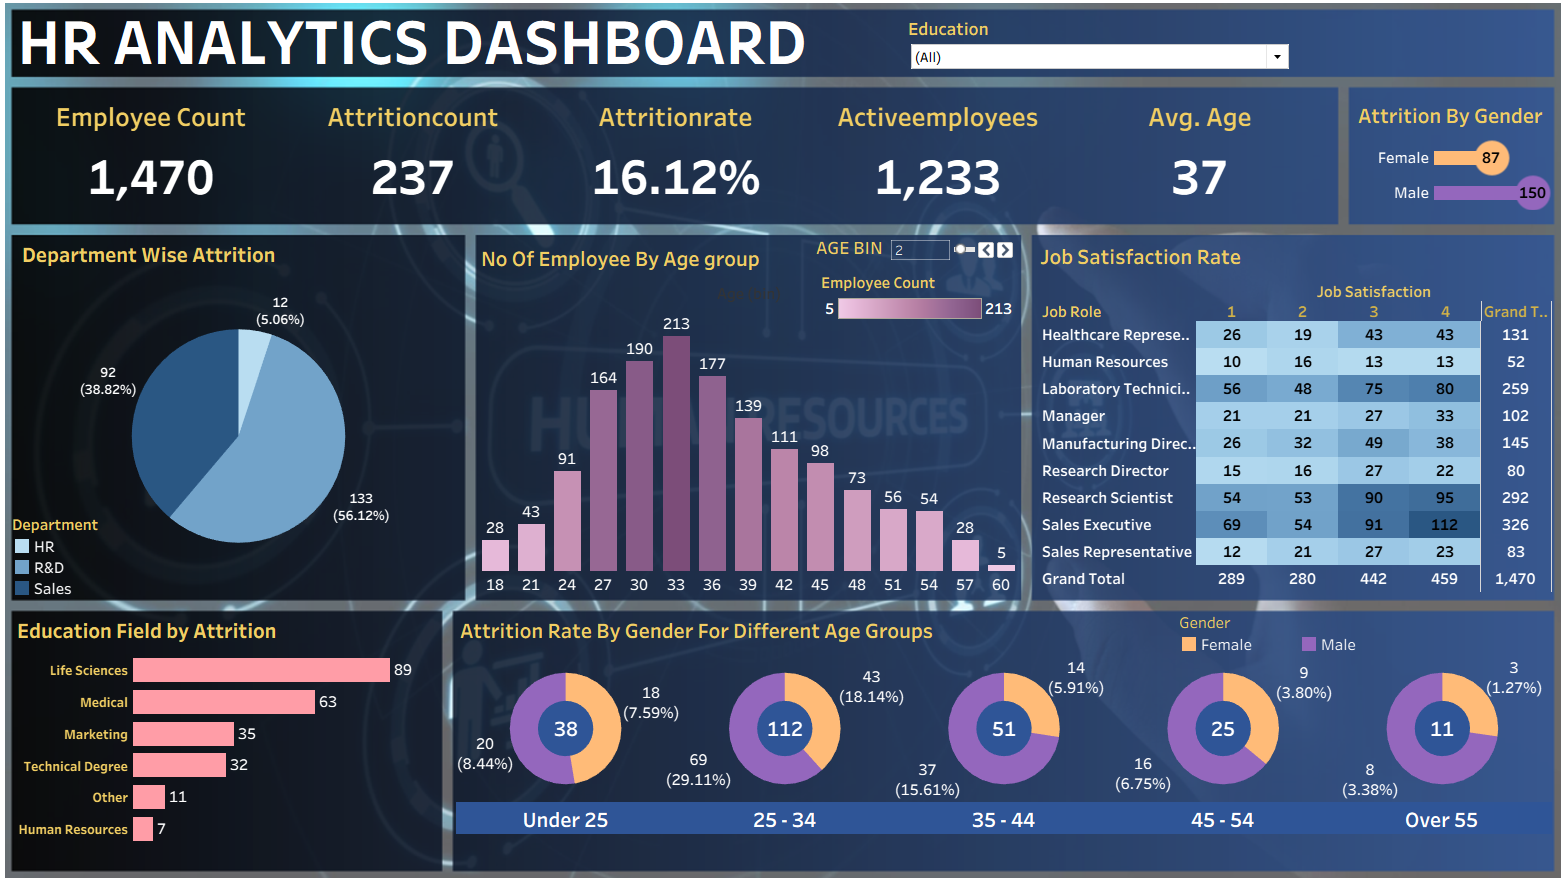

The dashboard page shown, as its layout file describes it:
{"tool":"tableau","page":{"name":"HR Analyst dashboard","canvas":[1580,900],"ordinal":0},"visuals":[{"type":"image","param":"Image/HR background.pptx.png","box":[8,8,1564,884]},{"type":"text","box":[21,14,915,68]},{"type":"filter","title":"Department Wise Attrition","param":"[federated.0pzmctz0w5nbub1et0mcf1bufbfg].[none:Education:nk]","box":[915,25,384,57]},{"type":"worksheet","title":"KPI1","mark":"Automatic","box":[27,105,1311,118]},{"type":"worksheet","title":"Attrition by gender","mark":"Bar","rows":["Gender"],"cols":["Calculation_1280711922819072","Calculation_1280711922819072"],"box":[1361,106,202,113]},{"type":"worksheet","title":"Department Wise Attrition","mark":"Pie","box":[25,245,441,358]},{"type":"parameter","param":"[Parameters].[Parameter 1280711938035715]","box":[823,246,200,37]},{"type":"worksheet","title":"Job Satisfaction Rate","mark":"Square","rows":["Job Role"],"cols":["Job Satisfaction"],"box":[1043,247,516,354]},{"type":"worksheet","title":"No Of Employee By Age group","mark":"Automatic","rows":["Employee Count"],"cols":["Age (bin)"],"box":[484,249,543,356]},{"type":"legend","title":"No Of Employee By Age group","param":"[federated.0pzmctz0w5nbub1et0mcf1bufbfg].[sum:Employee Count:qk]","box":[828,281,196,88]},{"type":"legend","title":"Department Wise Attrition","param":"[federated.0pzmctz0w5nbub1et0mcf1bufbfg].[none:Department:nk]","box":[19,523,140,85]},{"type":"worksheet","title":"Education Field by Attrition","mark":"Automatic","rows":["Education Field"],"cols":["Calculation_1280711922819072"],"box":[20,621,418,233]},{"type":"worksheet","title":"Attrition Rate By Gender For Different Age Groups  ","mark":"Pie","rows":["Calculation_1280711948156935","Calculation_1280711948173321"],"cols":["CF_age band"],"box":[463,621,1096,222]},{"type":"legend","title":"Attrition Rate By Gender For Different Age Groups  ","param":"[federated.0pzmctz0w5nbub1et0mcf1bufbfg].[none:Gender:nk]","box":[1186,621,370,44]}]}

Visuals, with their boxes in screenshot pixels (x1, y1, x2, y2), scaled from the page's 1580x900 canvas onto the 1562x880 screenshot:
image: {"x1": 8, "y1": 8, "x2": 1554, "y2": 872}
text: {"x1": 21, "y1": 14, "x2": 925, "y2": 80}
"Department Wise Attrition" filter: {"x1": 905, "y1": 24, "x2": 1284, "y2": 80}
"KPI1" worksheet: {"x1": 27, "y1": 103, "x2": 1323, "y2": 218}
"Attrition by gender" worksheet (Bar marks): {"x1": 1345, "y1": 104, "x2": 1545, "y2": 214}
"Department Wise Attrition" worksheet (Pie marks): {"x1": 25, "y1": 240, "x2": 461, "y2": 590}
parameter: {"x1": 814, "y1": 241, "x2": 1011, "y2": 277}
"Job Satisfaction Rate" worksheet (Square marks): {"x1": 1031, "y1": 242, "x2": 1541, "y2": 588}
"No Of Employee By Age group" worksheet: {"x1": 478, "y1": 243, "x2": 1015, "y2": 592}
"No Of Employee By Age group" legend: {"x1": 819, "y1": 275, "x2": 1012, "y2": 361}
"Department Wise Attrition" legend: {"x1": 19, "y1": 511, "x2": 157, "y2": 594}
"Education Field by Attrition" worksheet: {"x1": 20, "y1": 607, "x2": 433, "y2": 835}
"Attrition Rate By Gender For Different Age Groups  " worksheet (Pie marks): {"x1": 458, "y1": 607, "x2": 1541, "y2": 824}
"Attrition Rate By Gender For Different Age Groups  " legend: {"x1": 1172, "y1": 607, "x2": 1538, "y2": 650}
